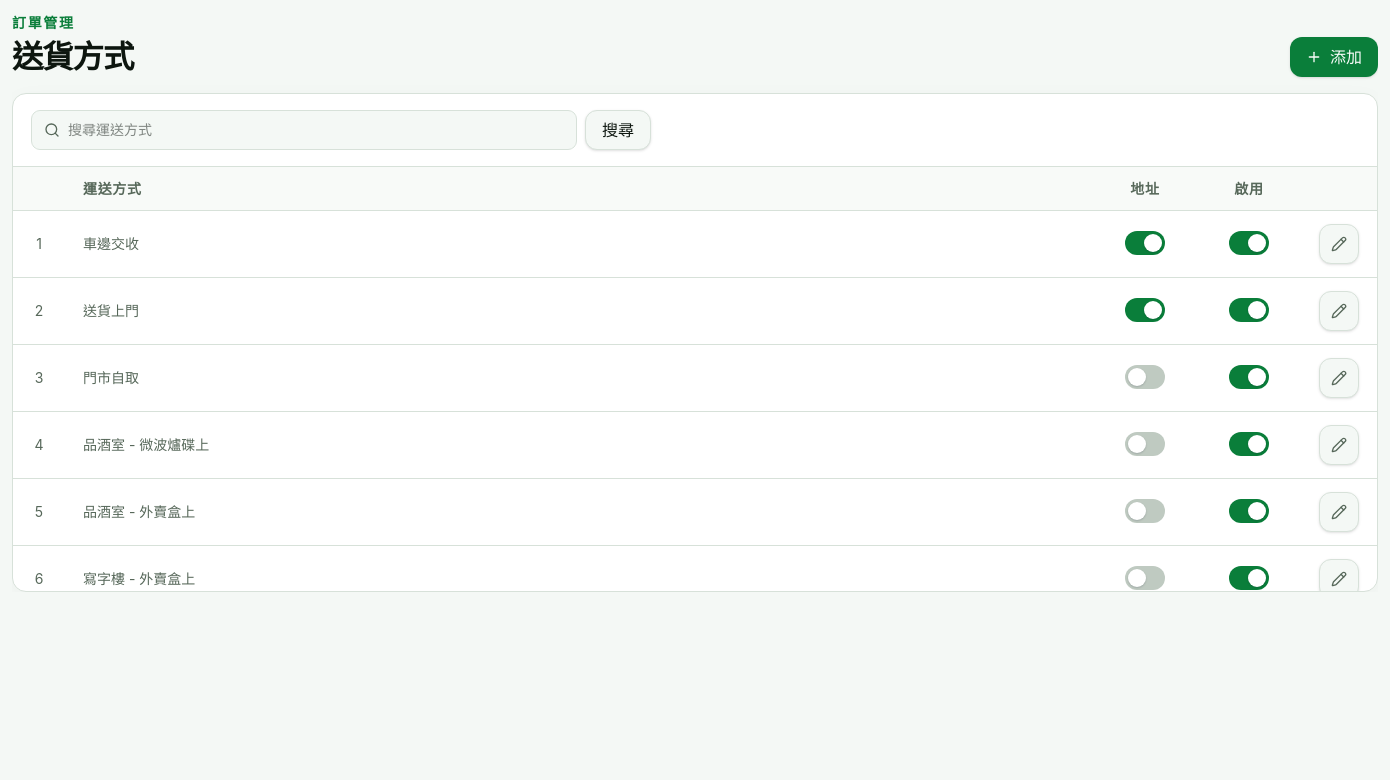
Test: Order settings shipping methods page › filters delivery methods from the search bar
Expected: the text "車邊交收" is shown, [65, 210, 1093, 277]
Step 1. Type "上門" into the search field with placeholder "搜尋運送方式" → (316, 130), box [68, 111, 564, 149]
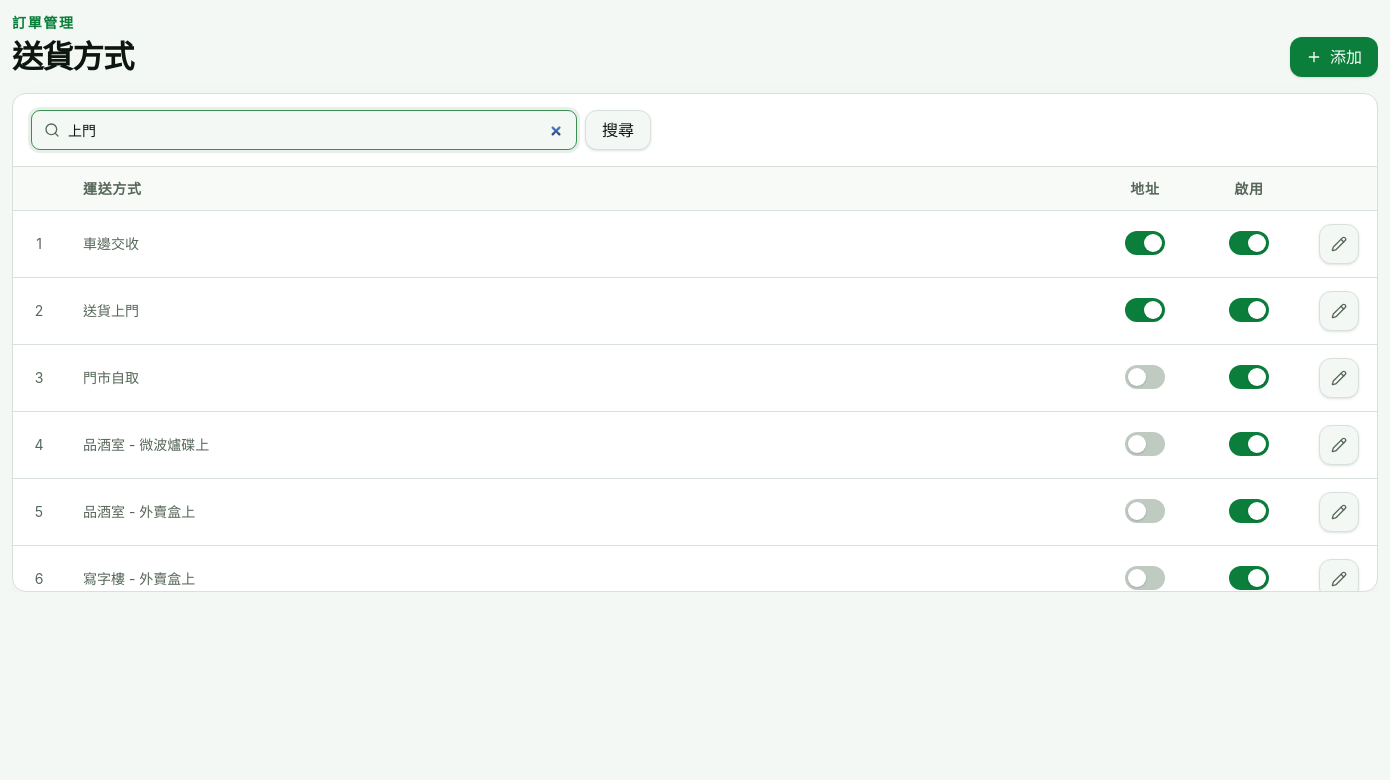
Step 2. Click the button "搜尋" → (618, 130), box [585, 110, 651, 150]
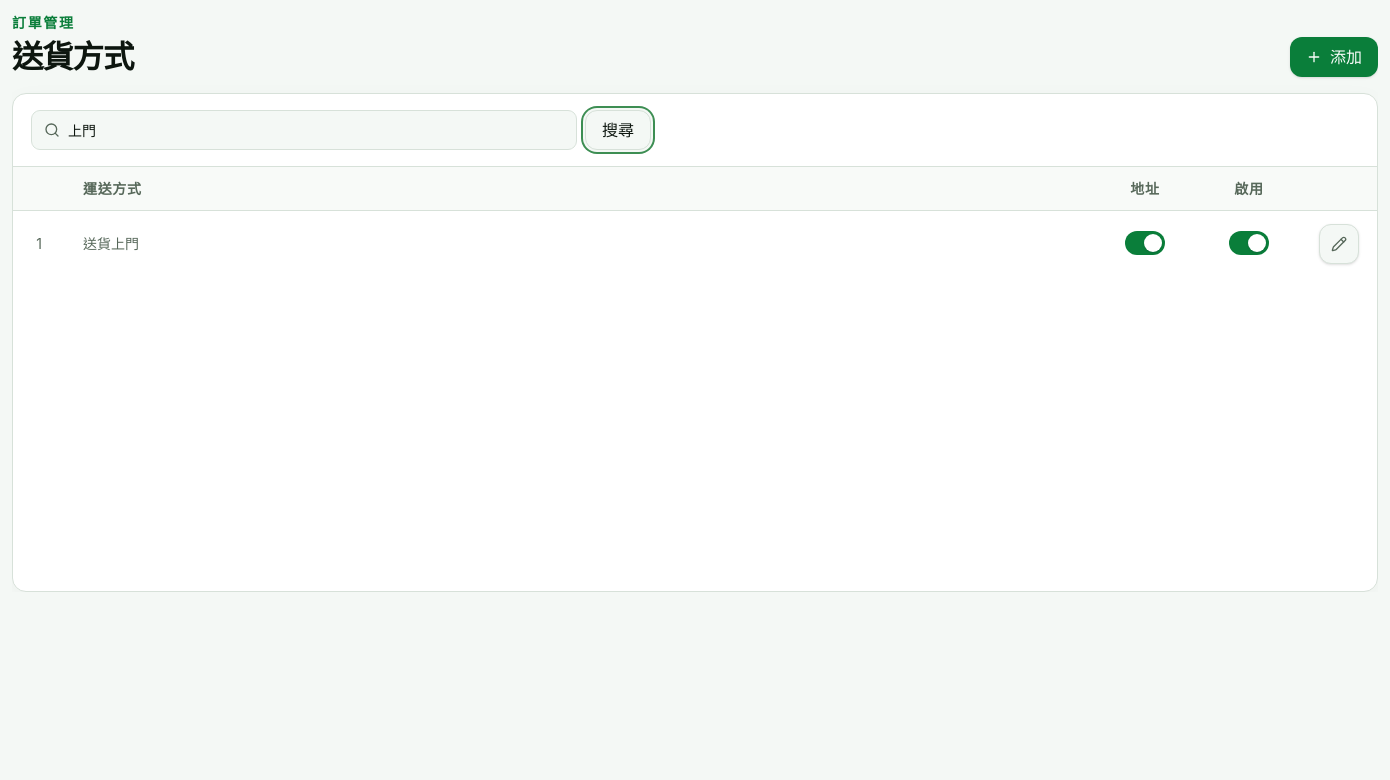
Expected: the text "送貨上門" is shown, [65, 210, 1093, 277]
Expected: the text "車邊交收" is gone
Expected: the text "門市自取" is gone
